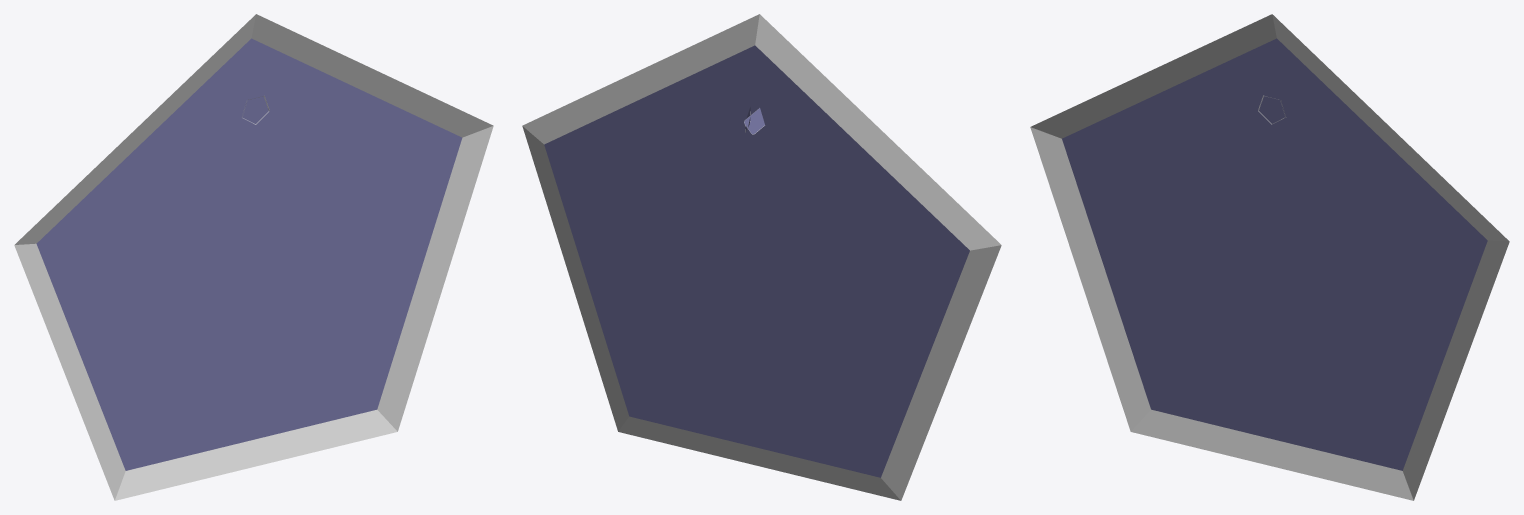
Rendered from UI_Controller_Start_Closed.fbx.
3 views of the same model, side by side, from view 1: azimuth 30°, elevation 25°; view 2: azimuth 150°, elevation 25°; view 3: azimuth 330°, elevation 25° (orthographic).
Parts seen in each view (by area): view 1: Close, Core; view 2: Close; view 3: Close, Core.
Part boxes in pixels (x1=…): Close: x1=14, y1=14, x2=493, y2=500; Core: x1=242, y1=96, x2=269, y2=124; Close: x1=522, y1=14, x2=1001, y2=500; Close: x1=1030, y1=14, x2=1509, y2=500; Core: x1=1258, y1=96, x2=1285, y2=124.
Bounding box in the file's own units: 22.71 × 20.47 × 1.09.
